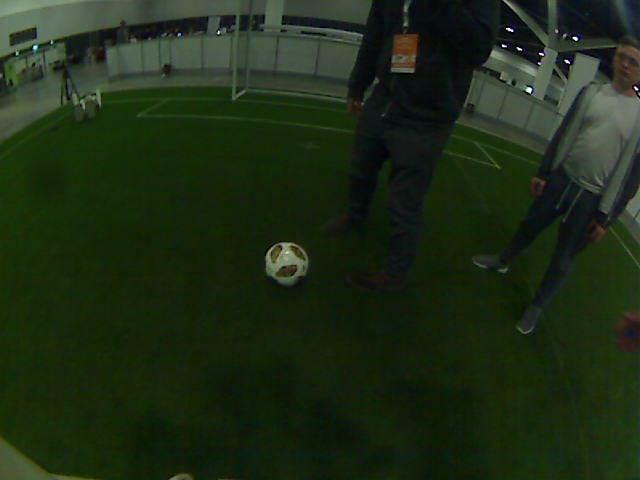ball: (266, 242, 306, 282)
goalpost: (215, 37, 255, 97)
robot: (77, 84, 91, 119)
